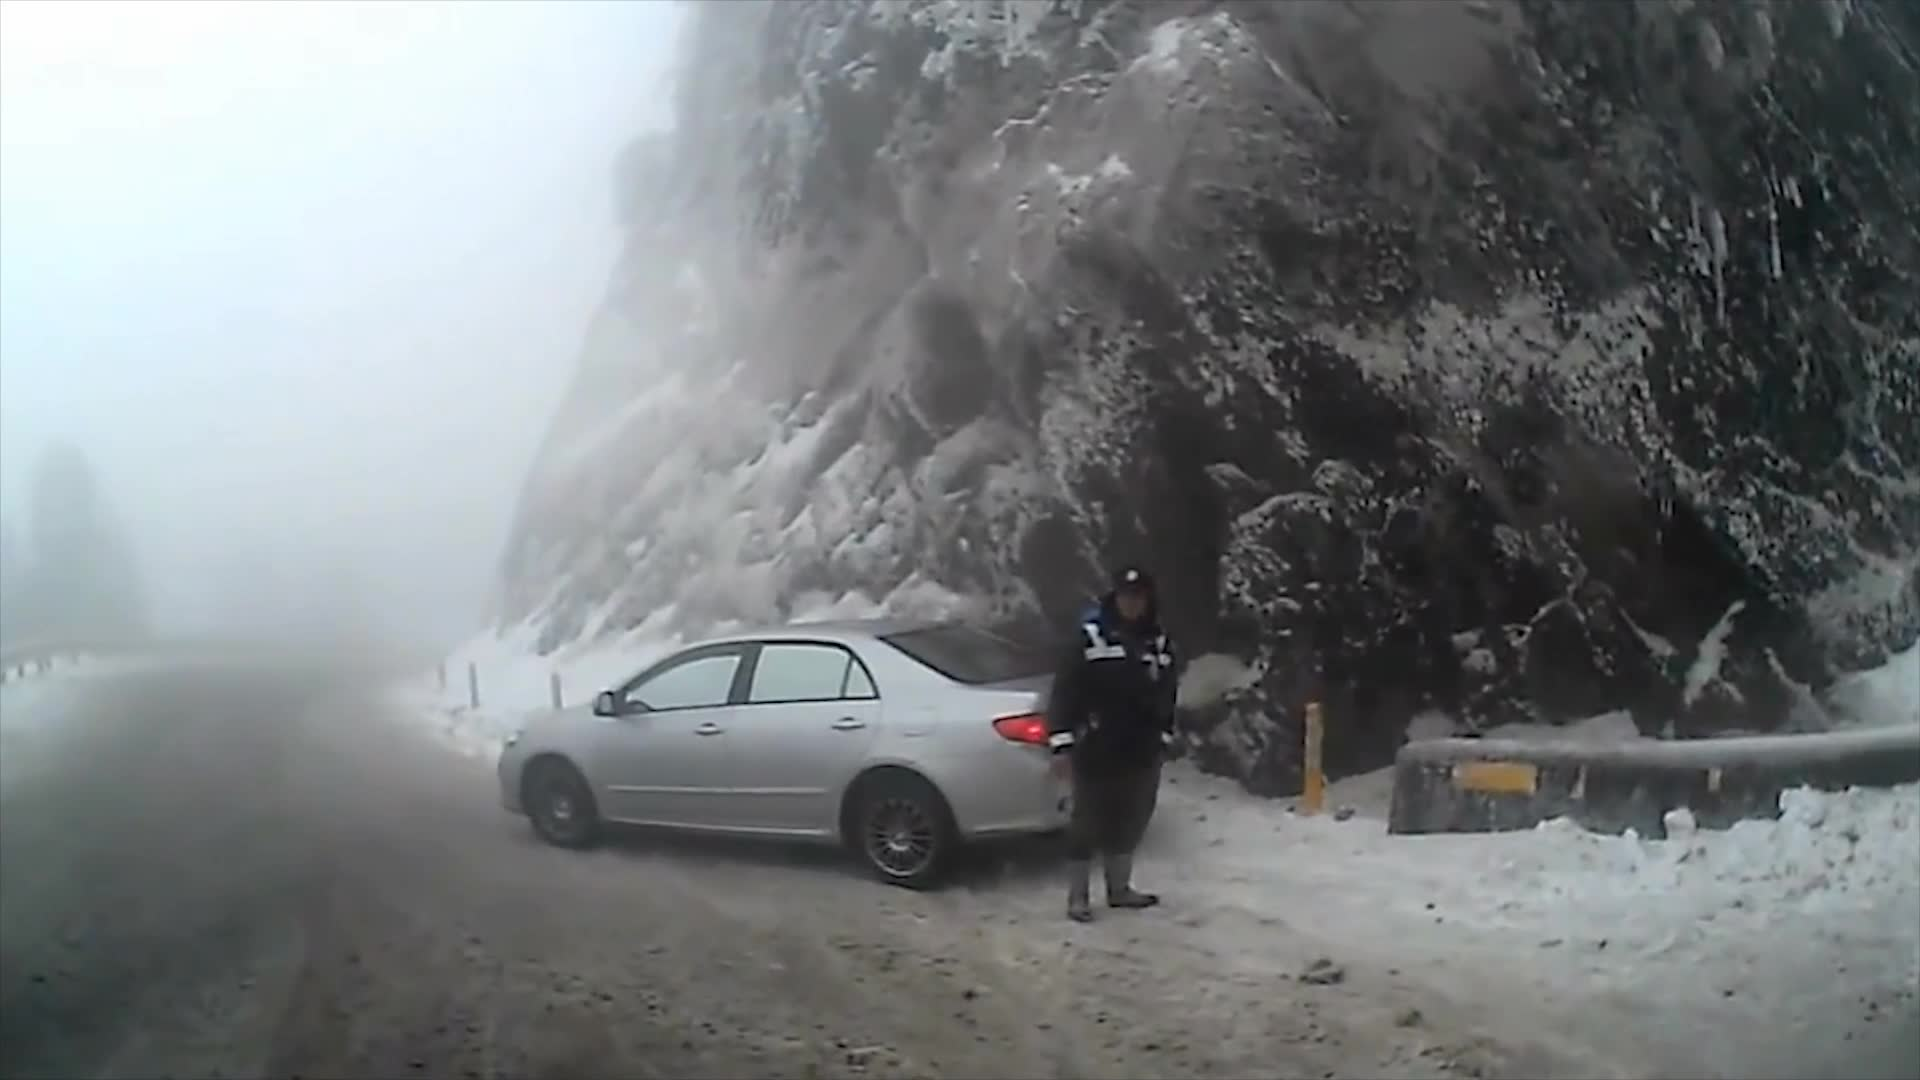pedestrian: (1046, 570, 1178, 926)
vehicle: (494, 615, 1163, 889)
